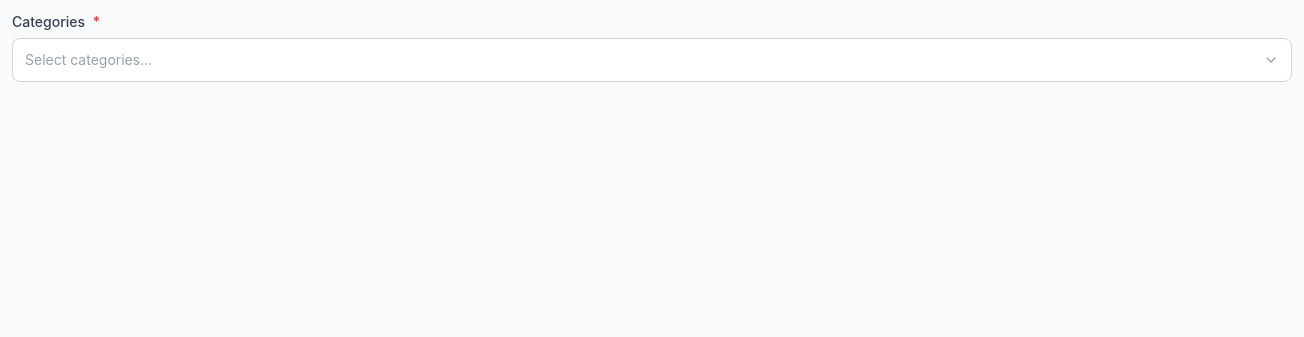
CategorySelector tree › selects the parent when a child is selected
The width and height of the screenshot is (1304, 337).
Step 1. Click the button "Select categories..." → {"x": 89, "y": 60}, box 12,38 -> 1292,82
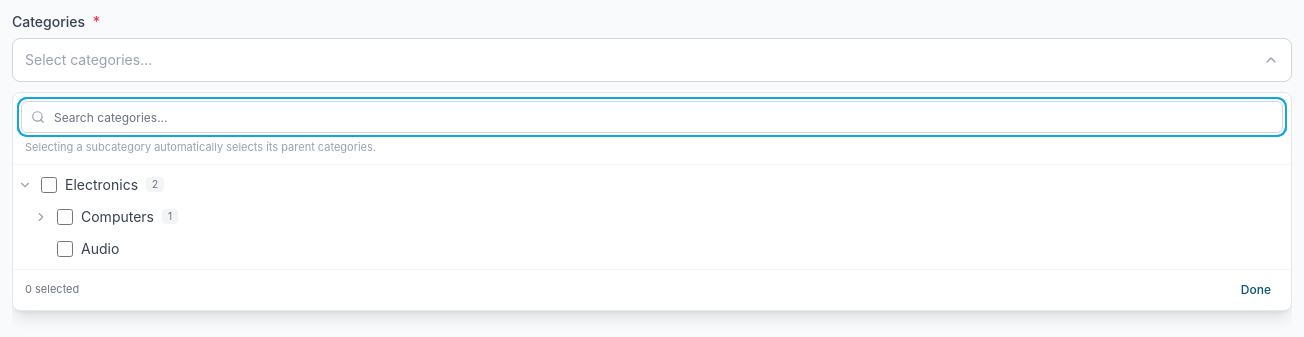
Check: the checkbox labelled "Electronics 2" is shown, box 41,176 -> 57,192
Step 2. Click the checkbox labelled "Computers 1" → {"x": 65, "y": 216}, box 57,208 -> 73,224
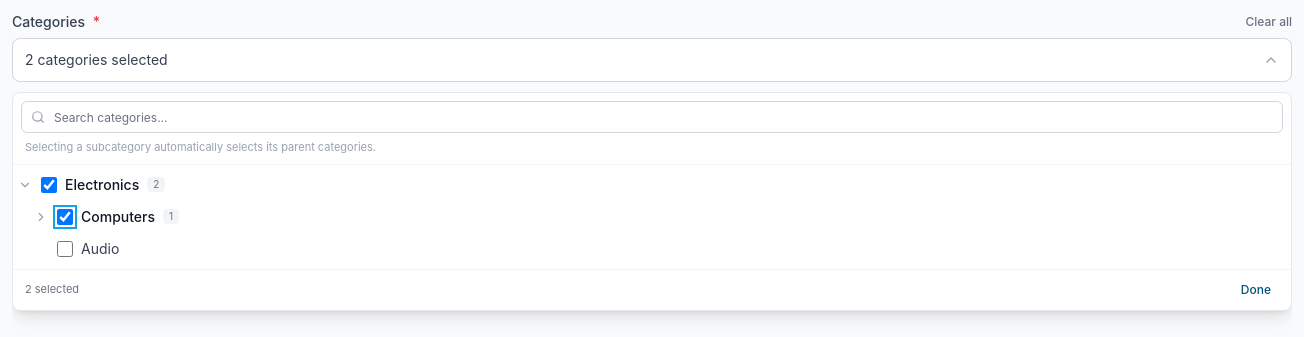
Check: the checkbox labelled "Computers 1" is checked, box 57,208 -> 73,224
Check: the checkbox labelled "Electronics 2" is checked, box 41,176 -> 57,192
